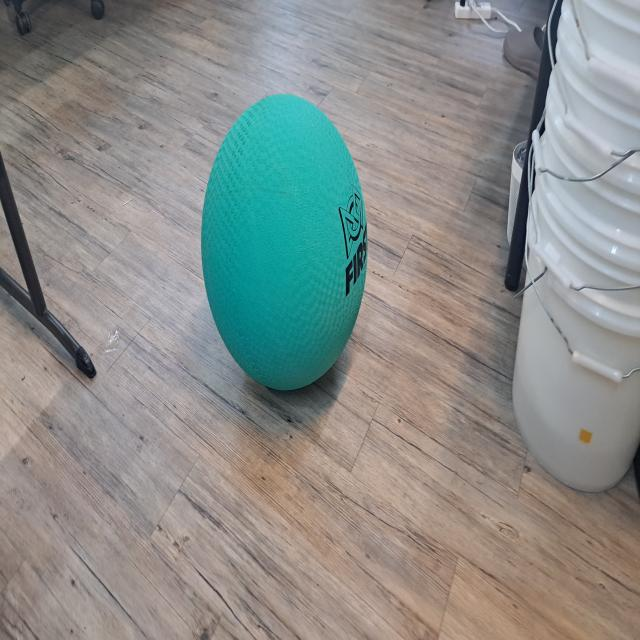ALGAE: (199, 89, 369, 393)
